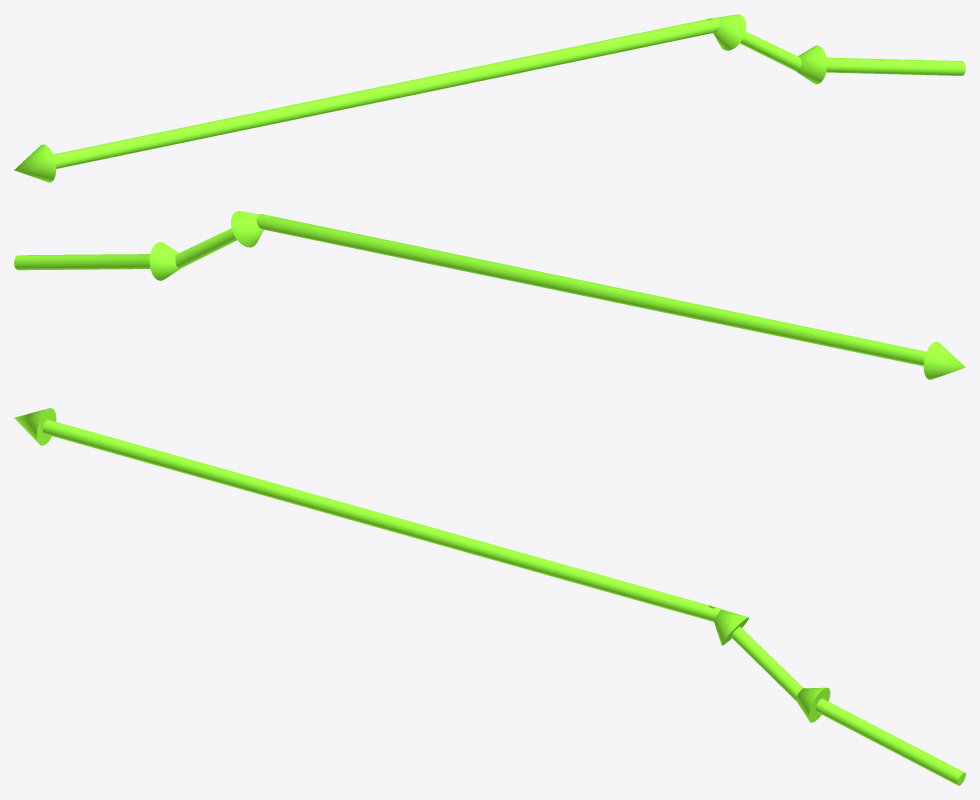
File: rotor_flow.glb
3 renders of one model, top to bottom at view 1: azimuth 30°, elevation 25°; view 2: azimuth 150°, elevation 25°; view 3: azimuth 330°, elevation 25°, orthographic.
Visible parts, largest first — view 1: cooling_air; view 2: cooling_air; view 3: cooling_air.
Boxes of the visible parts, x1=… form: cooling_air: x1=14, y1=14, x2=965, y2=182; cooling_air: x1=14, y1=211, x2=965, y2=379; cooling_air: x1=14, y1=408, x2=965, y2=785.
Bounding box in the file's own units: 1.17 × 0.1777 × 0.0421.
